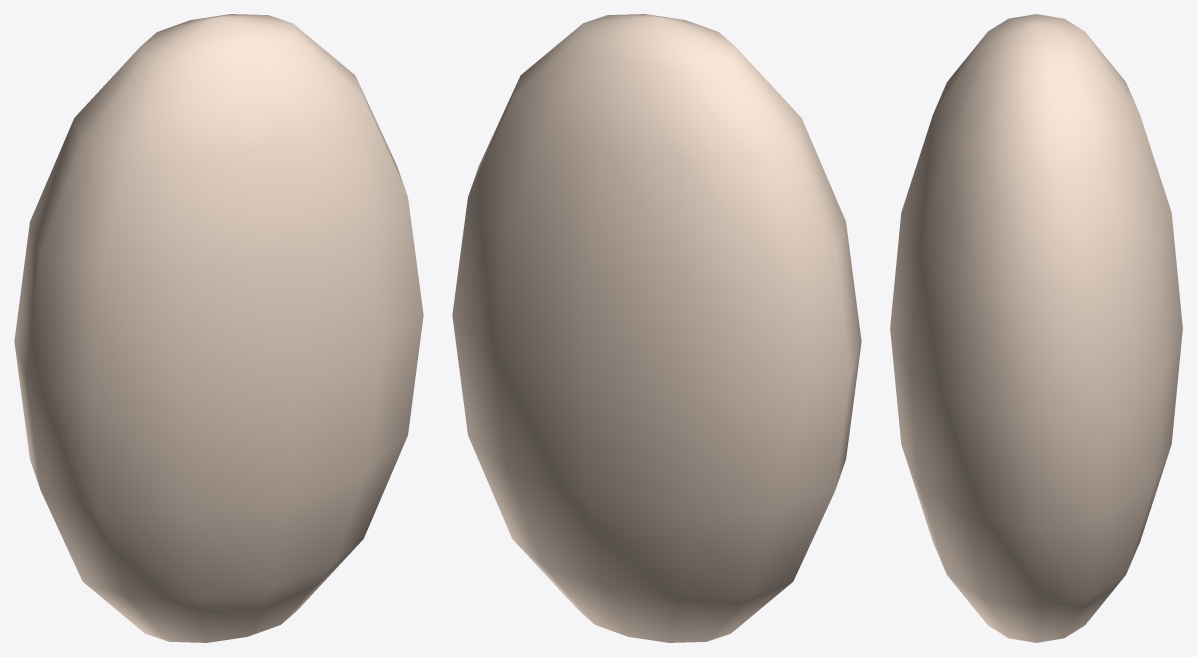
The model's file is body-chibi-01.glb.
3 views of the same model, side by side, from view 1: azimuth 30°, elevation 25°; view 2: azimuth 150°, elevation 25°; view 3: azimuth 270°, elevation 25° (orthographic). The views are drawn at different scales.
Parts seen in each view (by area): view 1: part_0; view 2: part_0; view 3: part_0.
Boxes of the visible parts, box(x1,y1,x2,y2) form: part_0: box(14, 14, 423, 642); part_0: box(452, 14, 861, 642); part_0: box(890, 14, 1182, 642).
Bounding box in the file's own units: 0.74 × 1.14 × 0.5.
